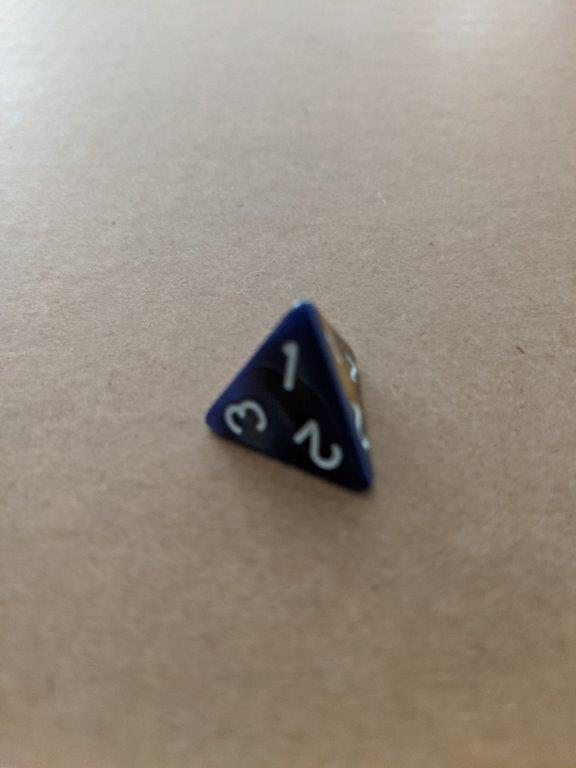d4-1: (198, 299, 379, 506)
